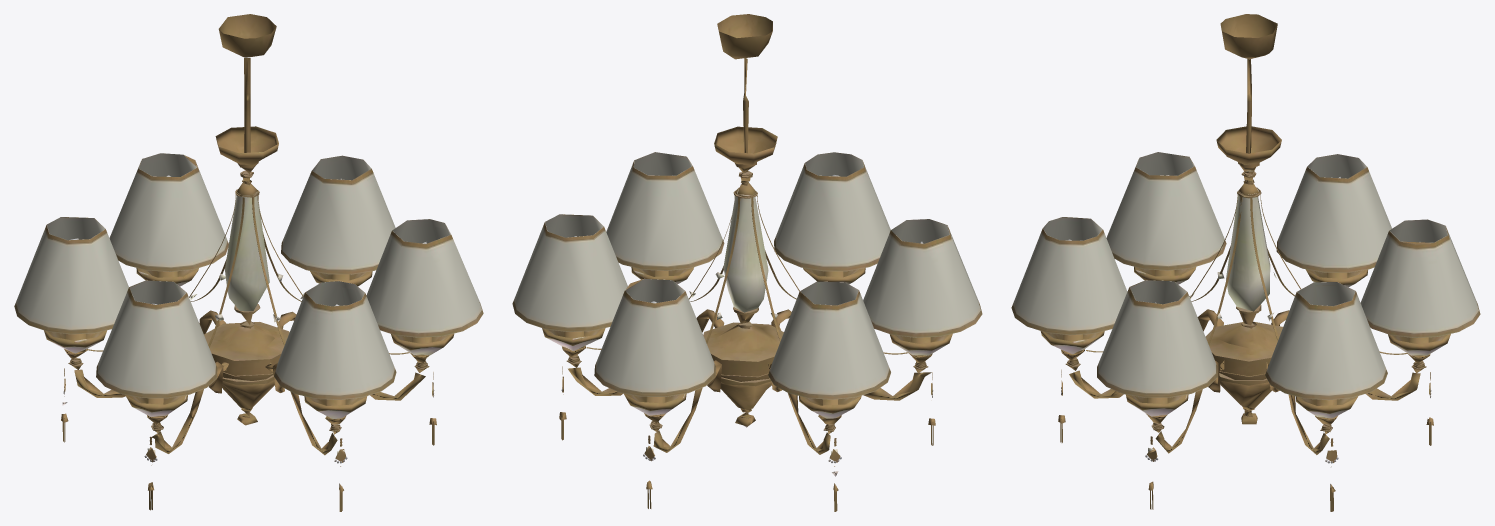
The model's file is chandelier.mid.glb.
3 views of the same model, side by side, from view 1: azimuth 30°, elevation 25°; view 2: azimuth 150°, elevation 25°; view 3: azimuth 270°, elevation 25° (orthographic).
Parts seen in each view (by area): view 1: Chandelier_01; view 2: Chandelier_01; view 3: Chandelier_01.
Boxes of the visible parts, bbox=[...] form: Chandelier_01: bbox=[14, 14, 483, 511]; Chandelier_01: bbox=[512, 14, 982, 511]; Chandelier_01: bbox=[1011, 14, 1480, 511].
Bounding box in the file's own units: 0.7465 × 0.7982 × 0.8155.
Materials: 2 (1 with a texture image).
